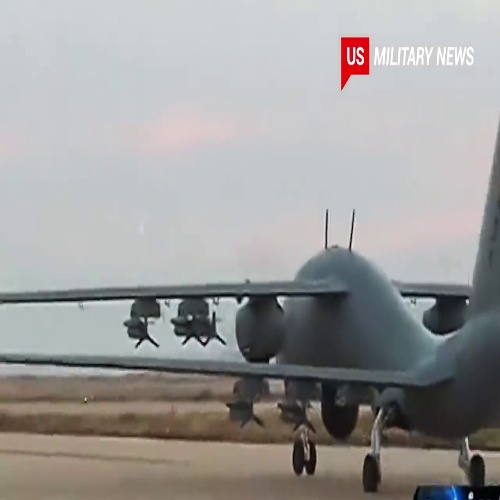uav: (2, 128, 498, 493)
